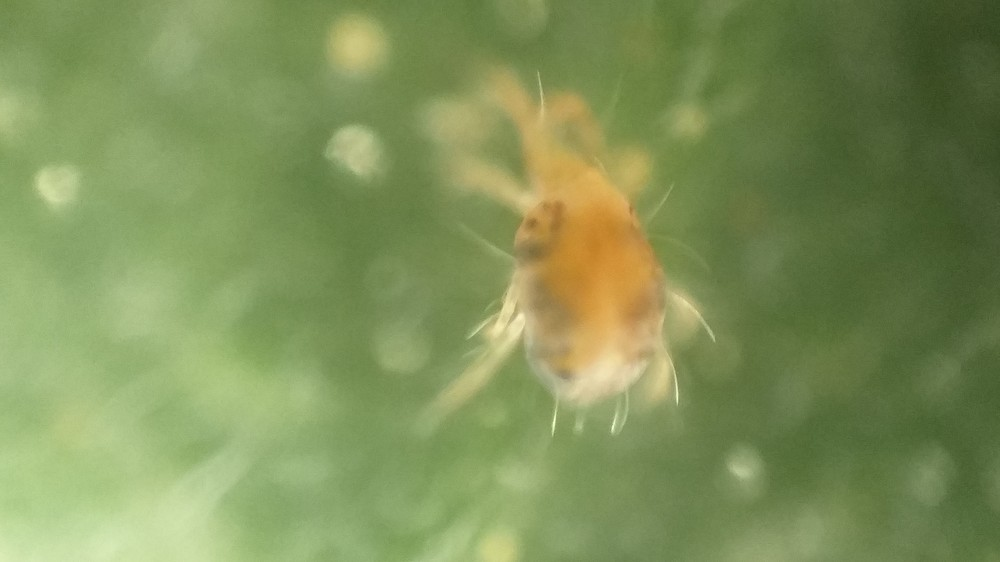Aracnido Rojo: (417, 67, 733, 468)
